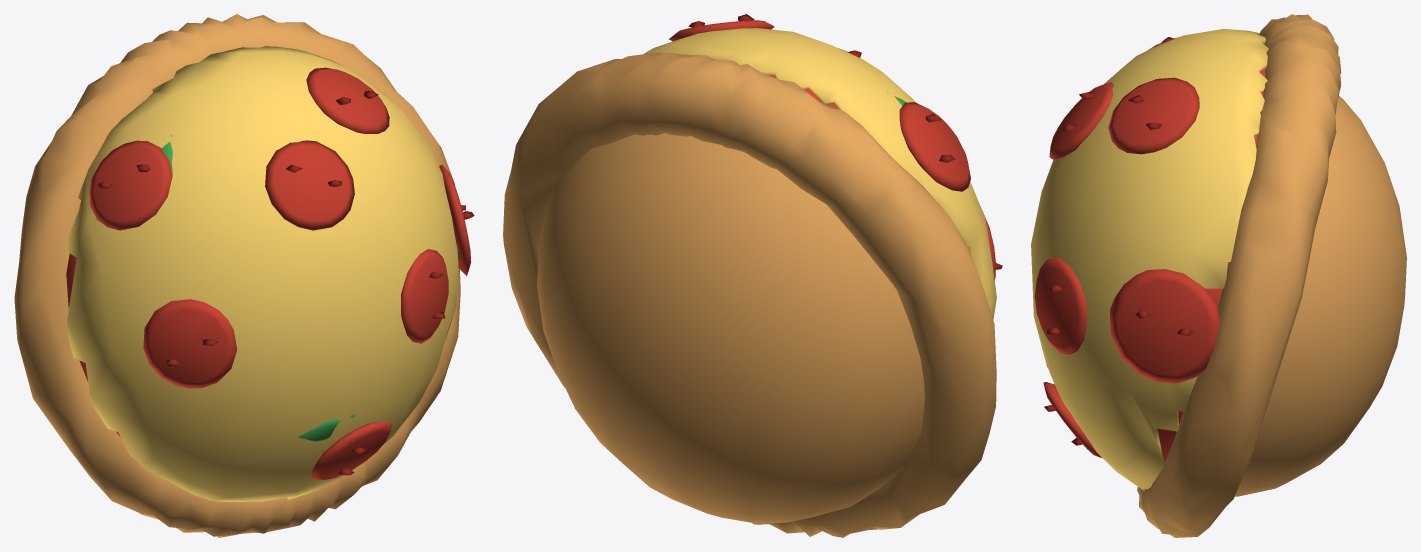
File: tb_mat_pizza.glb
The picture shows the model from 3 angles, left to right: view 1: azimuth 30°, elevation 25°; view 2: azimuth 150°, elevation 25°; view 3: azimuth 270°, elevation 25°; orthographic projection. The views are drawn at different scales.
Visible parts, largest first — view 1: matkropp; view 2: matkropp; view 3: matkropp.
Boxes of the visible parts, x1,y1,x2,y2 form: matkropp: (14,14,474,537); matkropp: (503,14,1002,537); matkropp: (1031,14,1406,537).
Bounding box in the file's own units: 0.9833 × 0.9847 × 0.7085.
